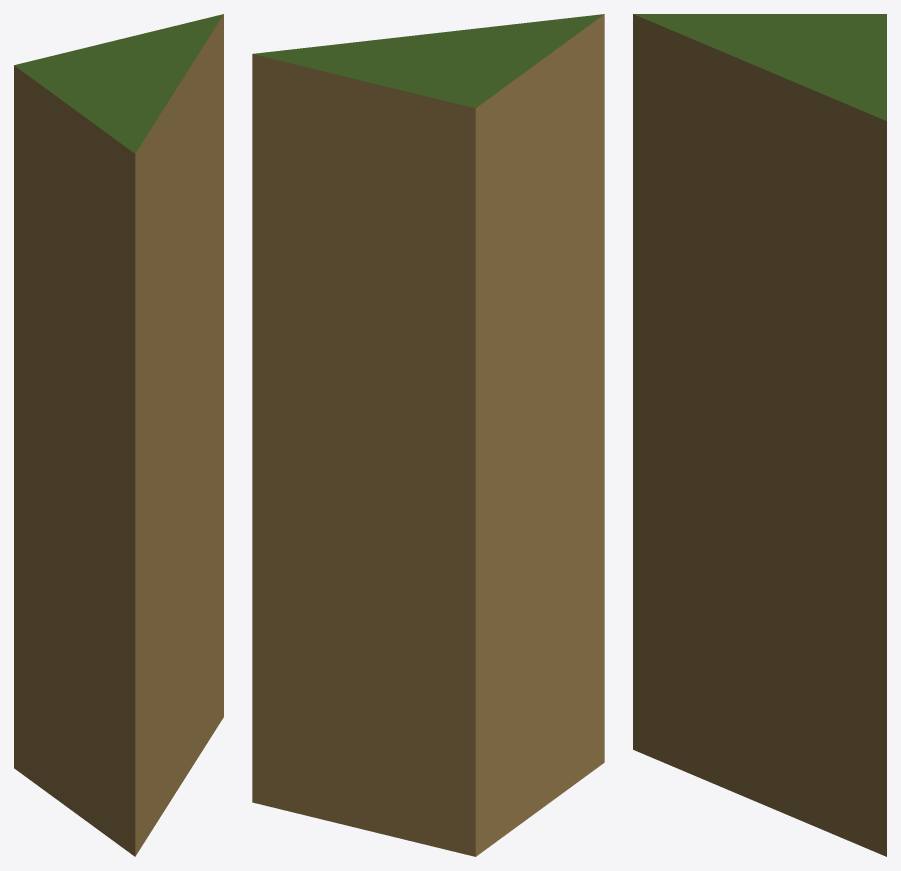
Rendered from Terrain_Modular_Tiles_Grass_Dirt_Cliff_Side_Corner_01.fbx.
The picture shows the model from 3 angles, left to right: view 1: azimuth 30°, elevation 25°; view 2: azimuth 150°, elevation 25°; view 3: azimuth 270°, elevation 25°; orthographic projection. The views are drawn at different scales.
Visible parts, largest first — view 1: Terrain_Modular_Tiles_Grass_Dirt_Cliff_Side_Corner_01; view 2: Terrain_Modular_Tiles_Grass_Dirt_Cliff_Side_Corner_01; view 3: Terrain_Modular_Tiles_Grass_Dirt_Cliff_Side_Corner_01.
Boxes of the visible parts, x1,y1,x2,y2 form: Terrain_Modular_Tiles_Grass_Dirt_Cliff_Side_Corner_01: [14, 14, 223, 856]; Terrain_Modular_Tiles_Grass_Dirt_Cliff_Side_Corner_01: [252, 14, 604, 856]; Terrain_Modular_Tiles_Grass_Dirt_Cliff_Side_Corner_01: [633, 14, 886, 856].
Bounding box in the file's own units: 29.53 × 94.49 × 29.53.
